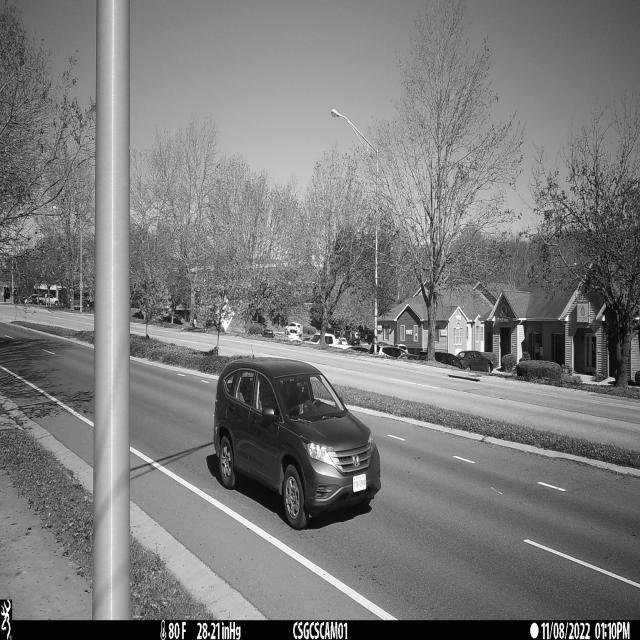SUV: (210, 359, 382, 531)
